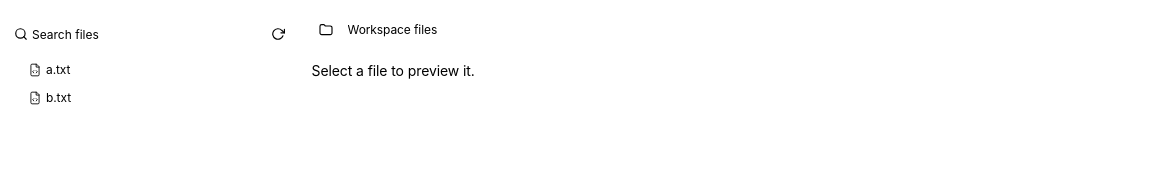
WorkspaceFilesPanel request ownership › ignores a stale page a.txt/resolve after selecting or reopening a file
This screenshot has width=1152, height=178.
Click the text with class "workspace-files__name" showing "a.txt" at (58, 69), box [46, 62, 70, 77]
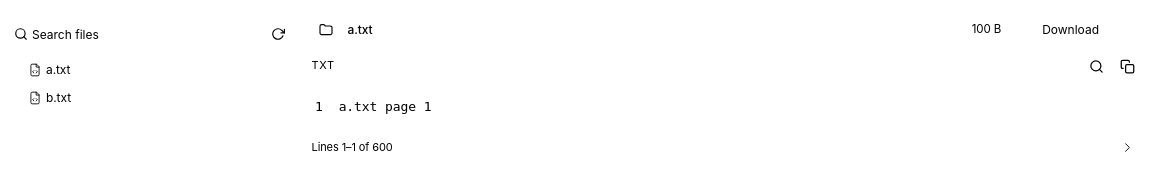
Click the button with class "workspace-file__more" at (1128, 147), box [1115, 133, 1140, 161]
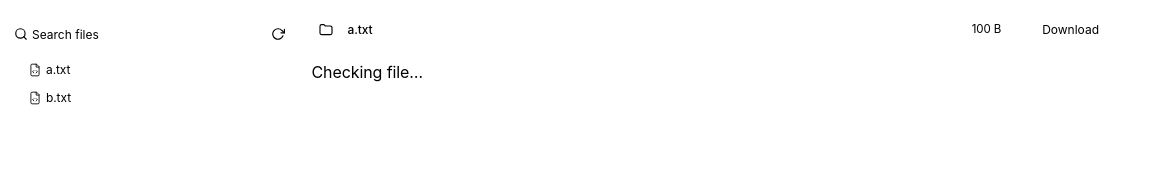
Click the 1st text with class "workspace-files__name" at (58, 69), box [46, 62, 70, 77]
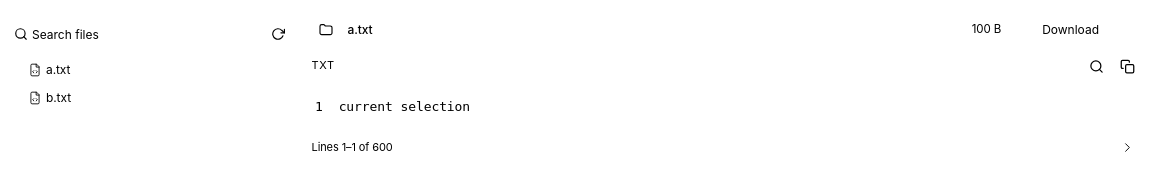
expect the message "Lines 1–1 of 600" is shown: met, box [312, 139, 393, 156]
expect the element showing "1 current selection" is shown: met, box [315, 99, 470, 114]
